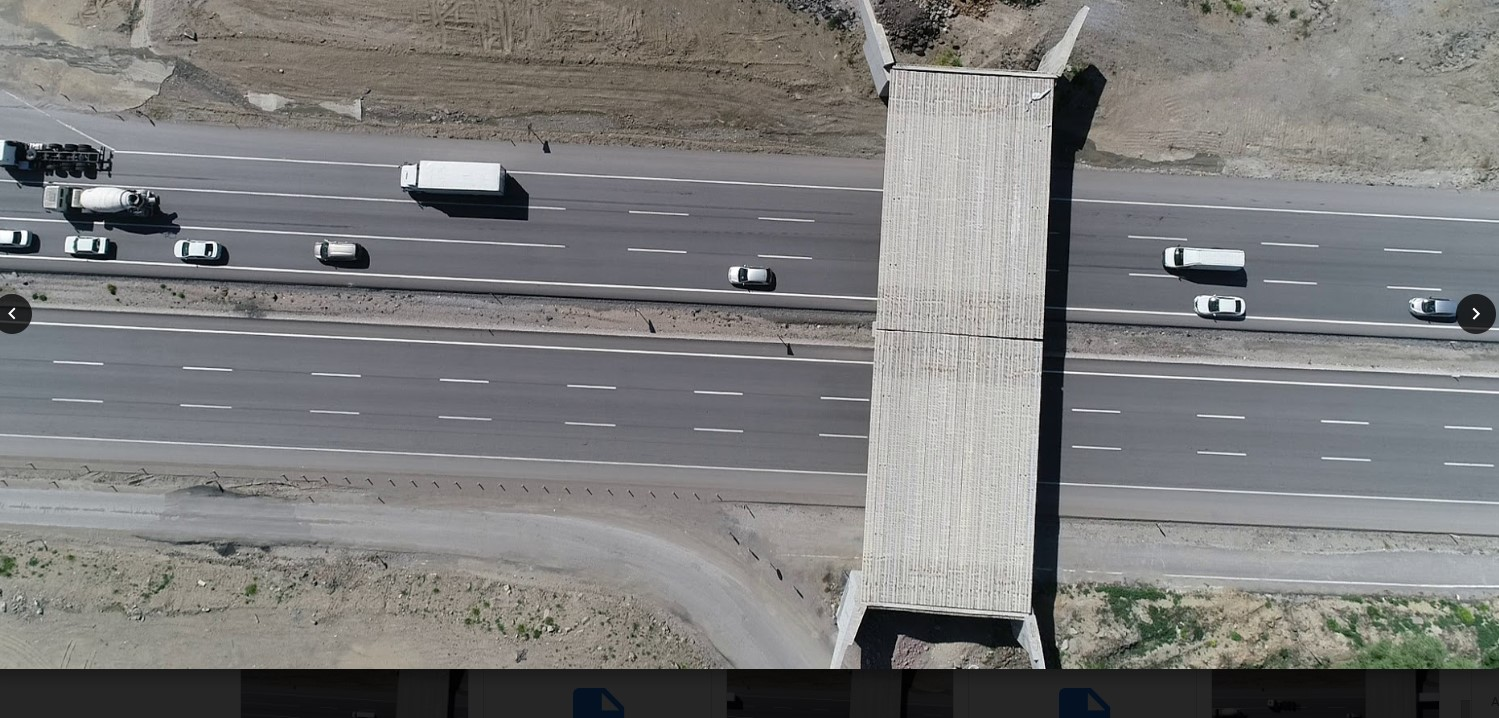araba: (390, 151, 510, 205), (1, 136, 119, 182), (40, 178, 163, 220), (1154, 243, 1252, 276), (1183, 288, 1254, 326), (302, 236, 377, 267), (722, 264, 783, 297), (1400, 294, 1456, 327), (170, 233, 223, 265), (60, 236, 113, 257), (1, 236, 44, 254)
